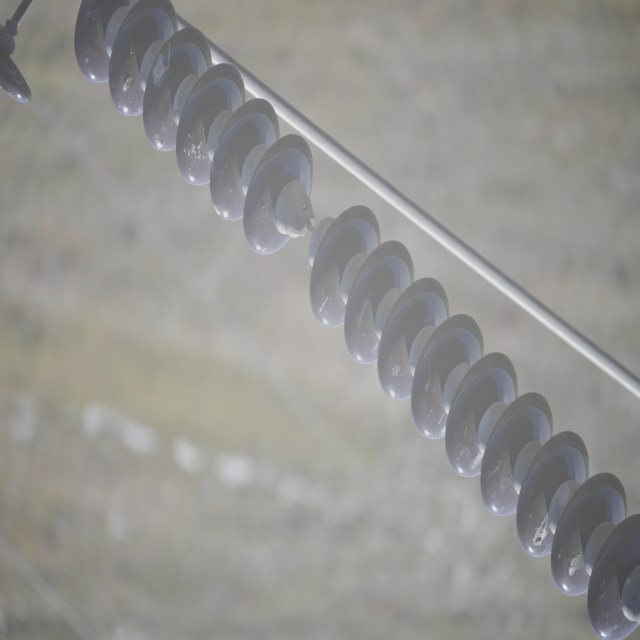broken: (302, 213, 331, 264)
insulator: (74, 0, 638, 638), (0, 42, 32, 101)
